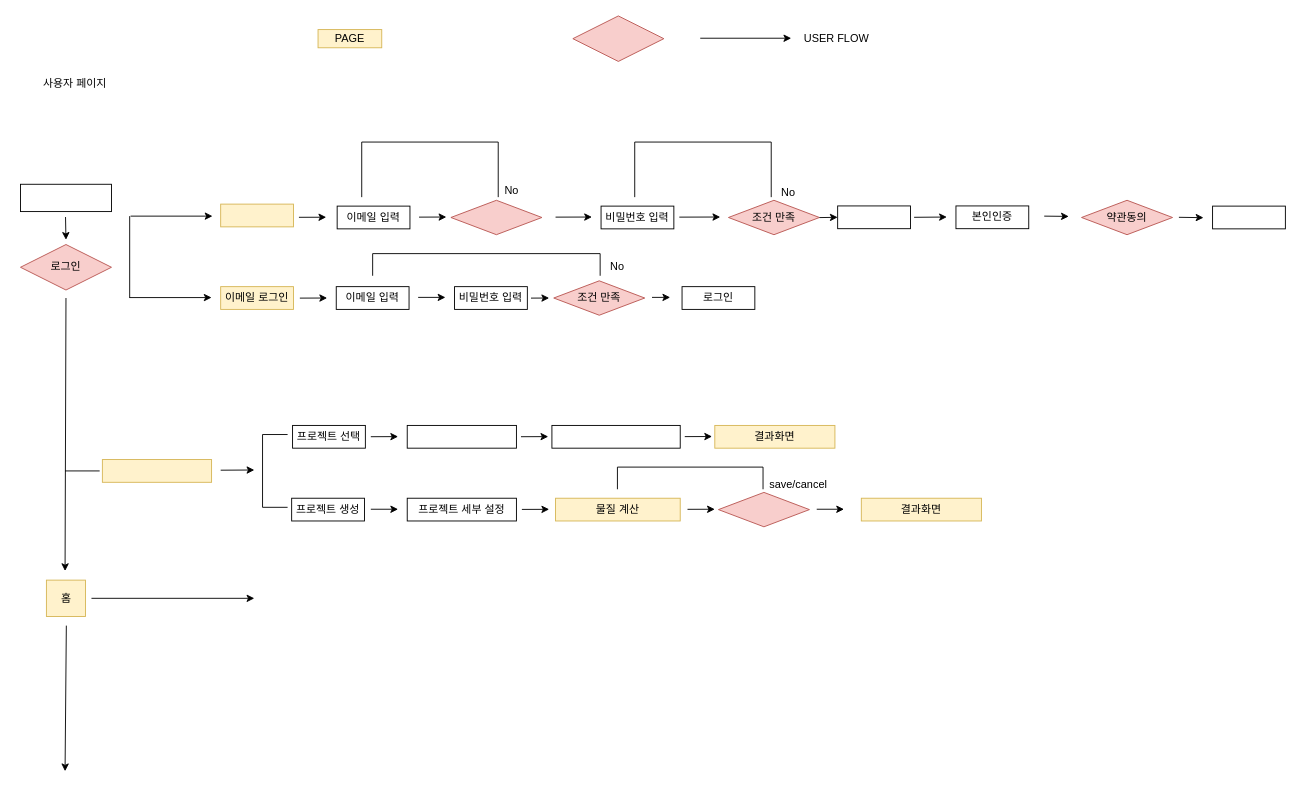
This 1301x794 diagram has some shape labels left out. Here are the shapes that lost their labels. From the top down, the centre of each, then its label:
At point (618, 38): "STATUS".
At point (65, 197): "START".
At point (256, 215): "회원가입".
At point (496, 217): "메일 인증".
At point (873, 217): "기본정보 입력".
At point (1248, 217): "가입완료".
At point (461, 436): "기존 프로젝트 확인".
At point (615, 436): "프로젝트 상세 정보 확인".
At point (156, 470): "프로젝트 생성/조회".
At point (763, 509): "결과 검토".
